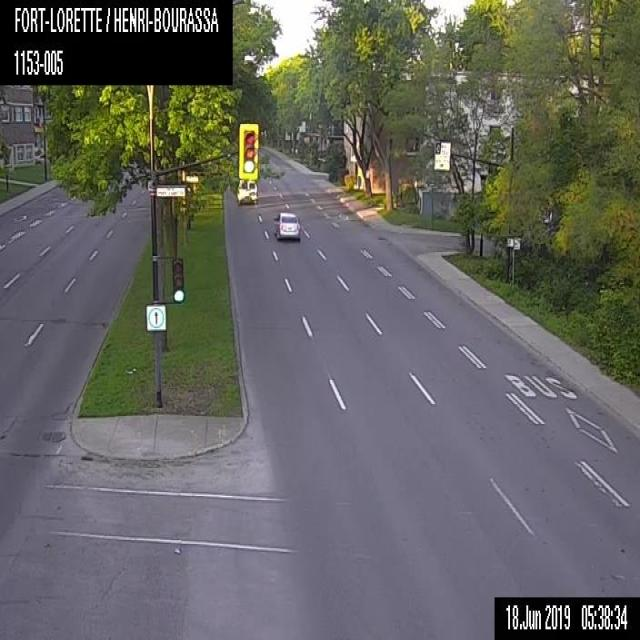vehicle: (273, 210, 301, 242), (234, 178, 257, 205)
